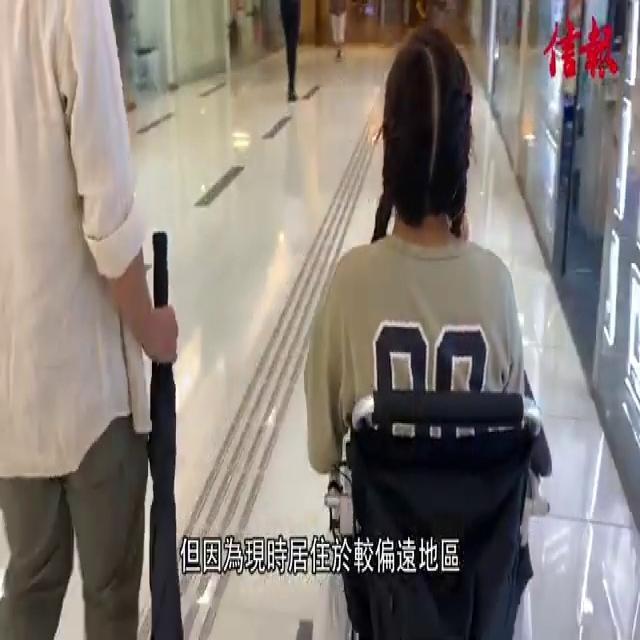wheelchairs: (315, 338, 570, 640)
